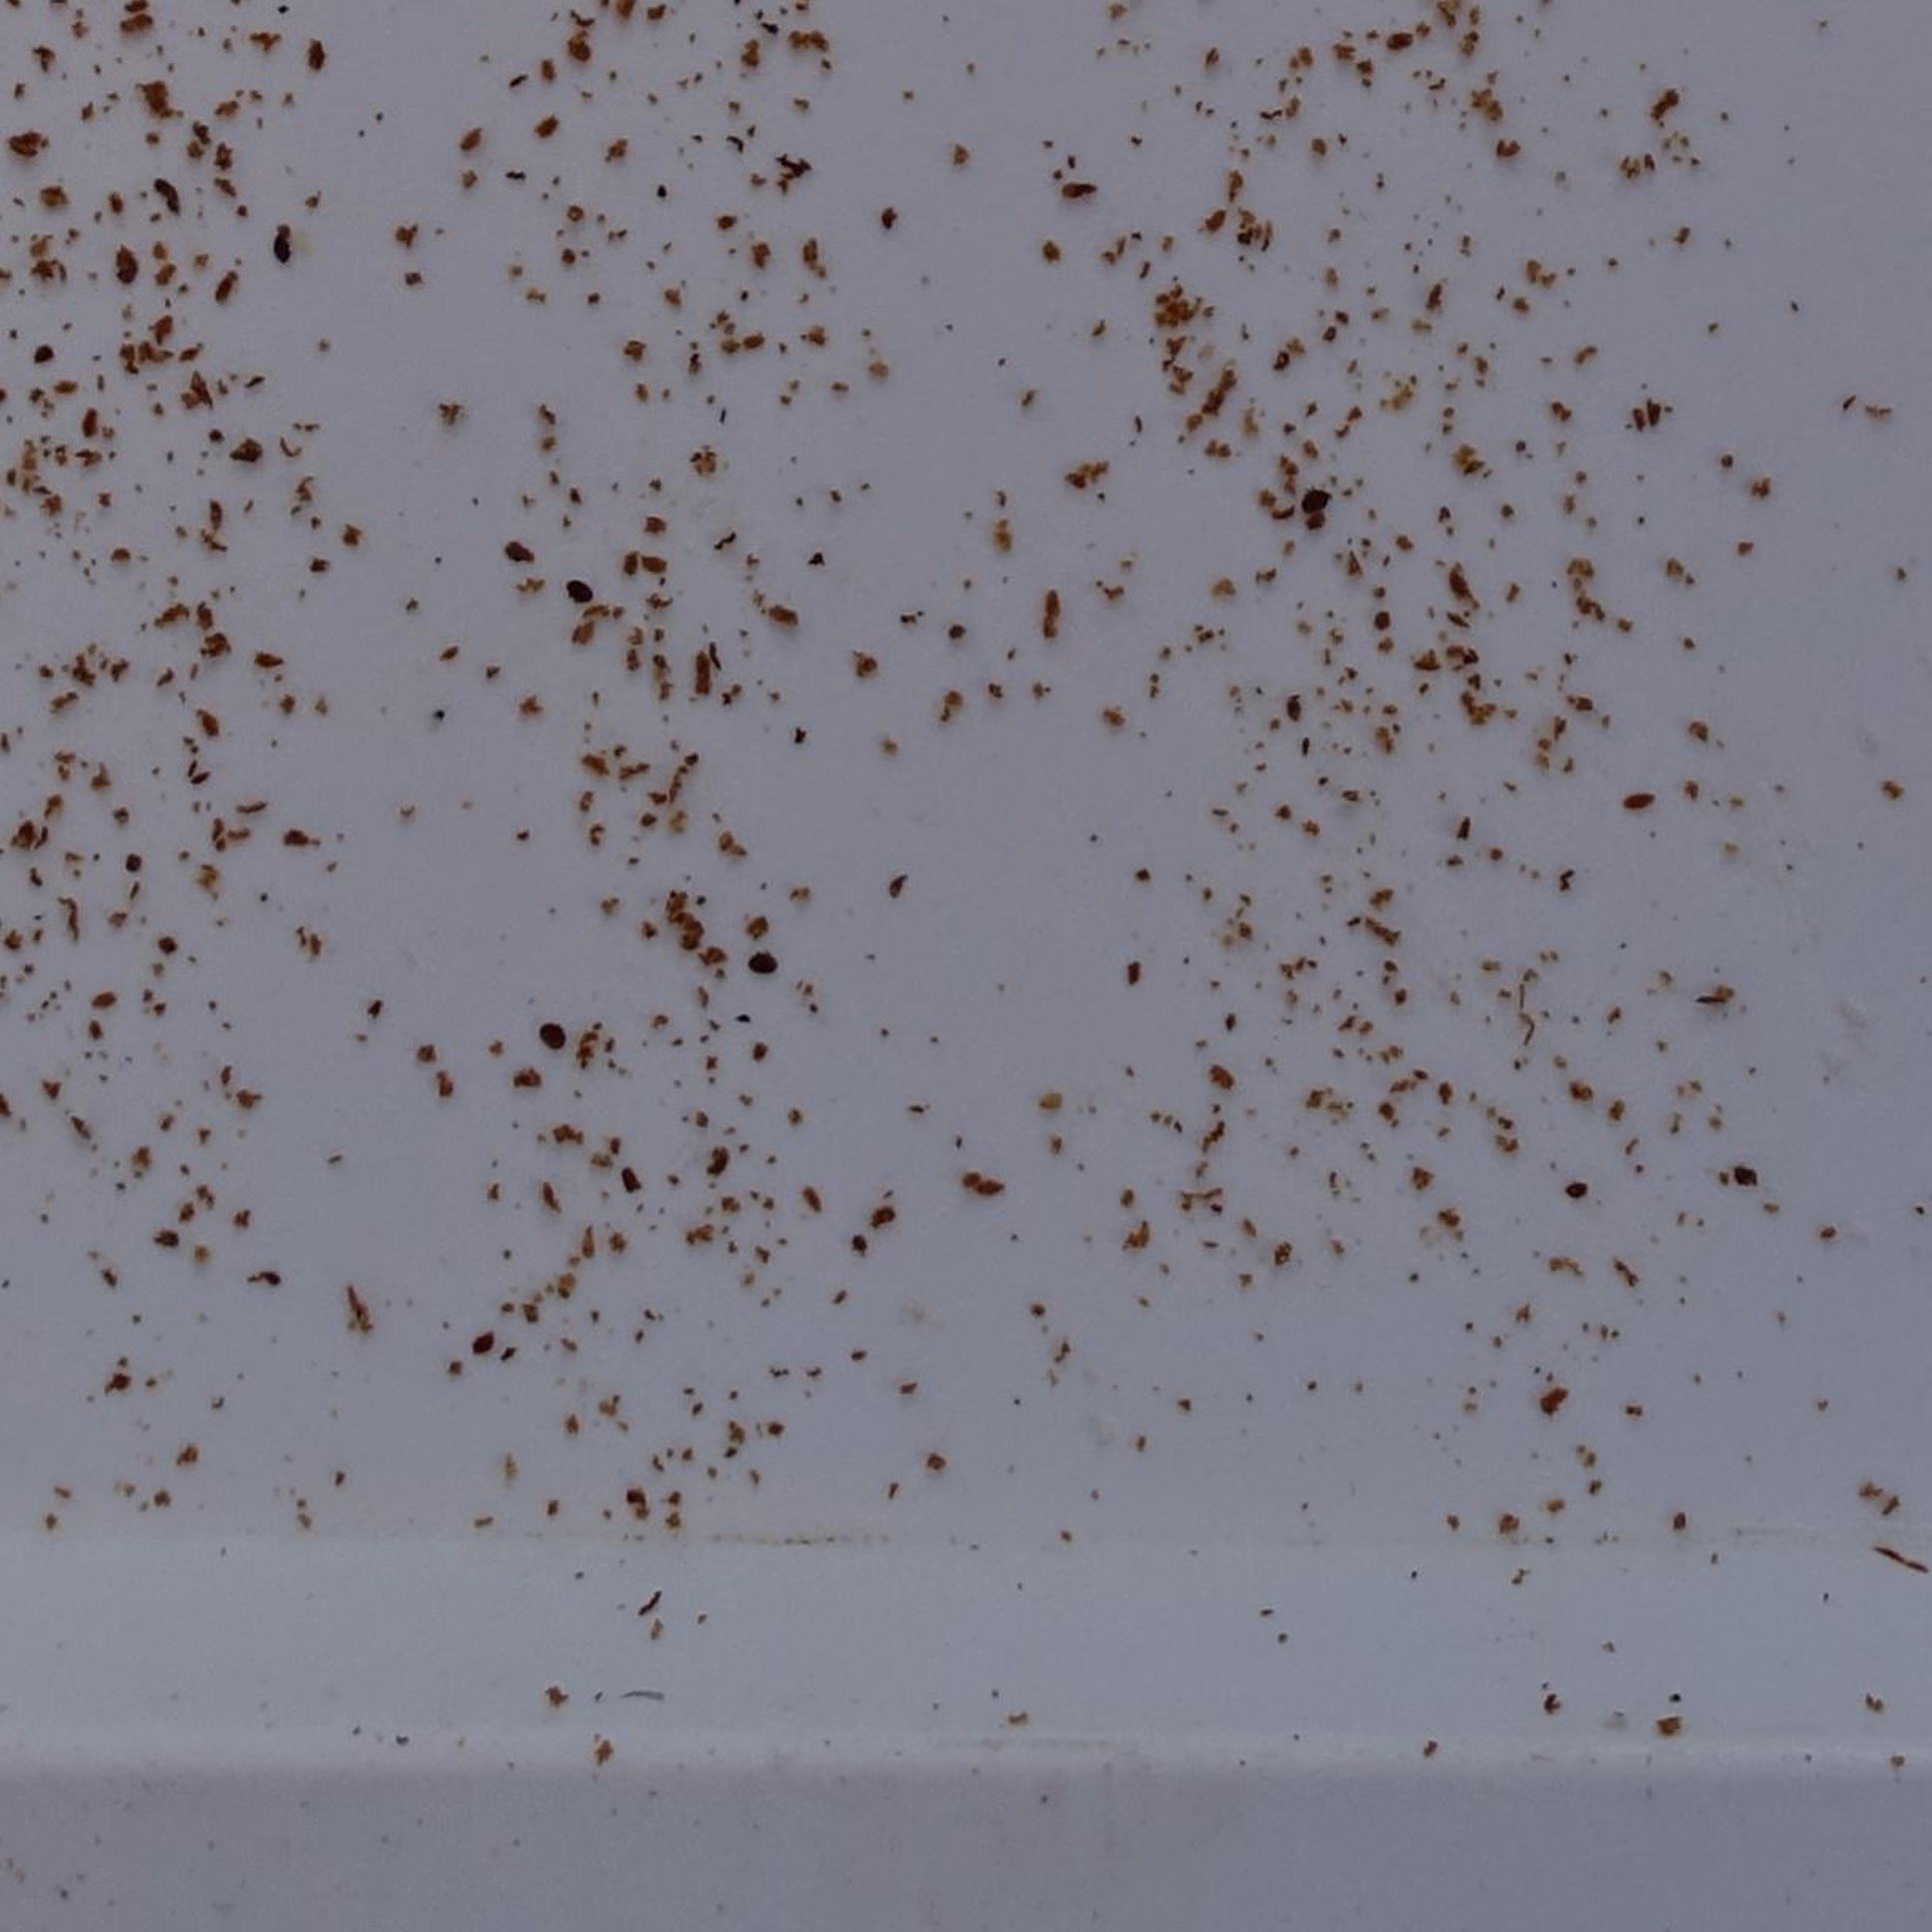Varroa: (538, 1017, 564, 1046), (752, 952, 775, 977), (271, 234, 292, 260), (568, 579, 591, 602), (1311, 494, 1323, 508)
